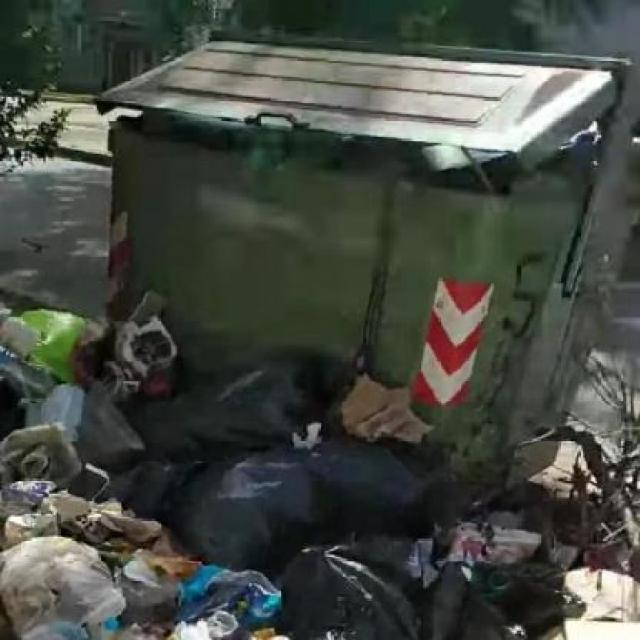garbage: (0, 292, 638, 638)
